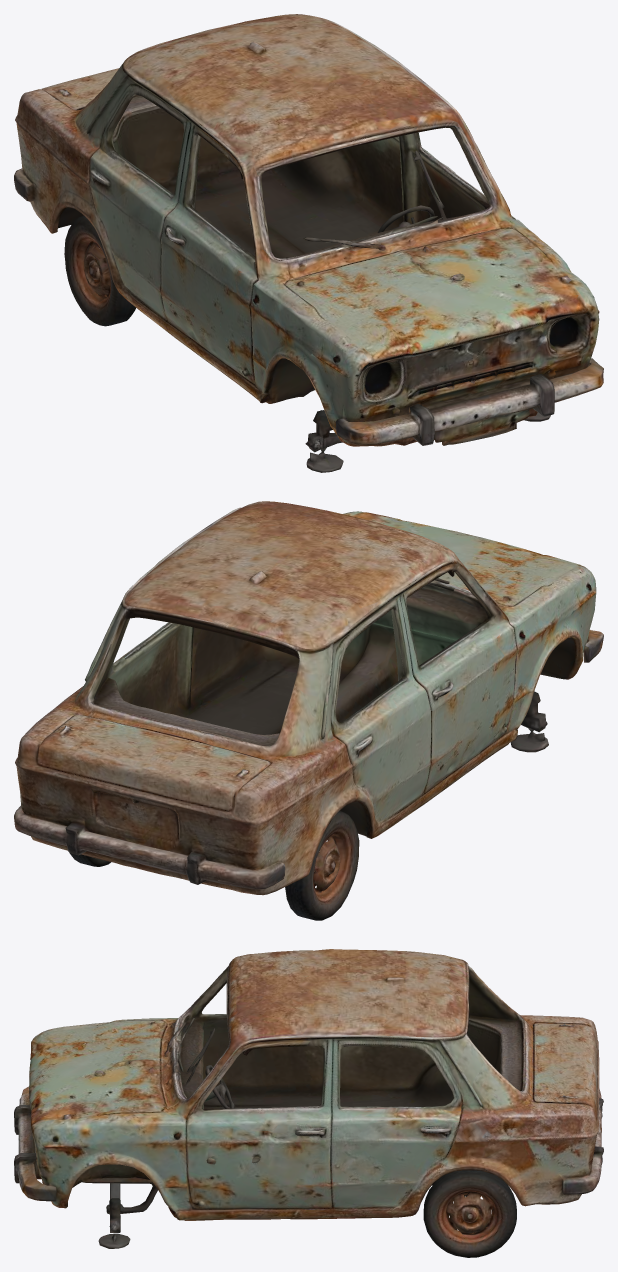
The model's file is car-shell.glb.
3 renders of one model, top to bottom at view 1: azimuth 30°, elevation 25°; view 2: azimuth 150°, elevation 25°; view 3: azimuth 270°, elevation 25°, orthographic. The views are drawn at different scales.
Parts seen in each view (by area): view 1: tripo_node_74170523-e255-4b82-bc43-e2911dec6cbe; view 2: tripo_node_74170523-e255-4b82-bc43-e2911dec6cbe; view 3: tripo_node_74170523-e255-4b82-bc43-e2911dec6cbe.
Part boxes in pixels (x1,y1,x2,y2): tripo_node_74170523-e255-4b82-bc43-e2911dec6cbe: (14, 14, 603, 472); tripo_node_74170523-e255-4b82-bc43-e2911dec6cbe: (14, 501, 603, 920); tripo_node_74170523-e255-4b82-bc43-e2911dec6cbe: (14, 949, 603, 1257).
Size of the model in its own units: 1.56 by 1.5 by 3.45.
Materials: 1 (1 with a texture image).
